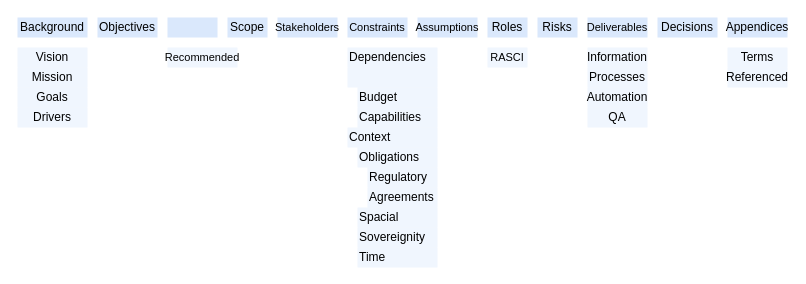
This 806x284 diagram has some shape labels left out. The shapes that lost their labels are listed below. From the top down, each one's centre as x and y in pixels, then its label:
At (x=192, y=27): "Options".
At (x=392, y=77): "Resources".
